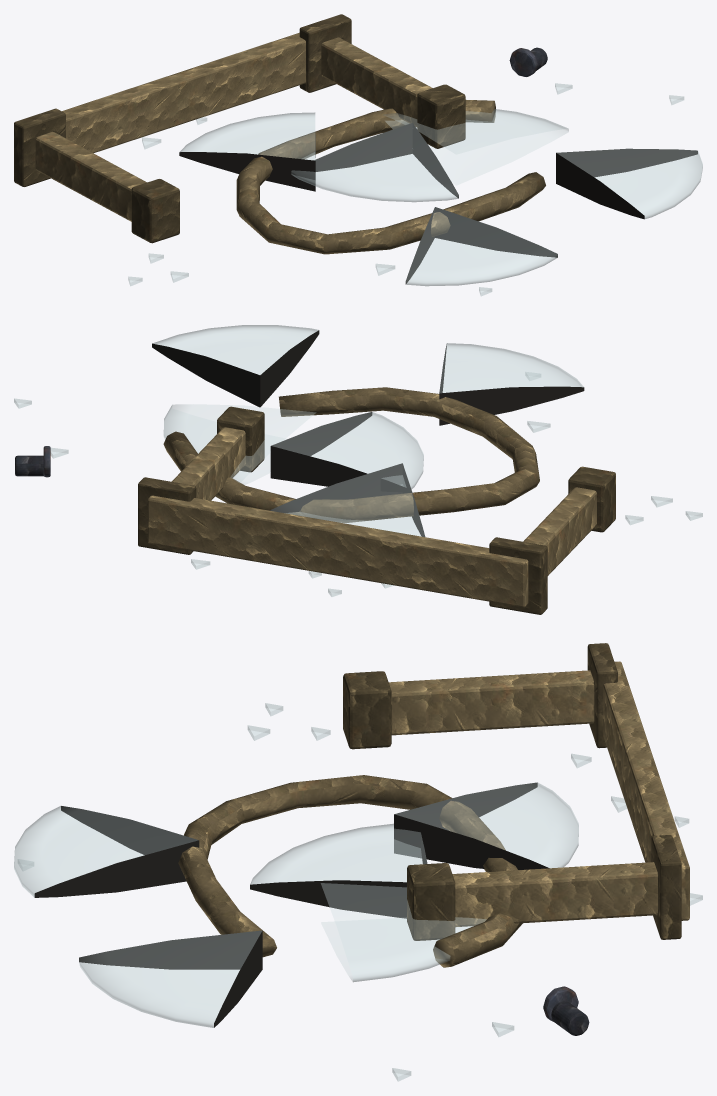
File: rs_lens_shattered.glb
3 renders of one model, top to bottom at view 1: azimuth 30°, elevation 25°; view 2: azimuth 150°, elevation 25°; view 3: azimuth 270°, elevation 25°, orthographic. The views are drawn at different scales.
Parts seen in each view (by area): view 1: model; view 2: model; view 3: model.
Part boxes in pixels (x1=…): model: x1=14, y1=14, x2=702, y2=296; model: x1=14, y1=325, x2=702, y2=614; model: x1=14, y1=643, x2=702, y2=1081.
Bounding box in the file's own units: 2.05 × 0.197 × 1.59.
23 materials, 5 textured.
